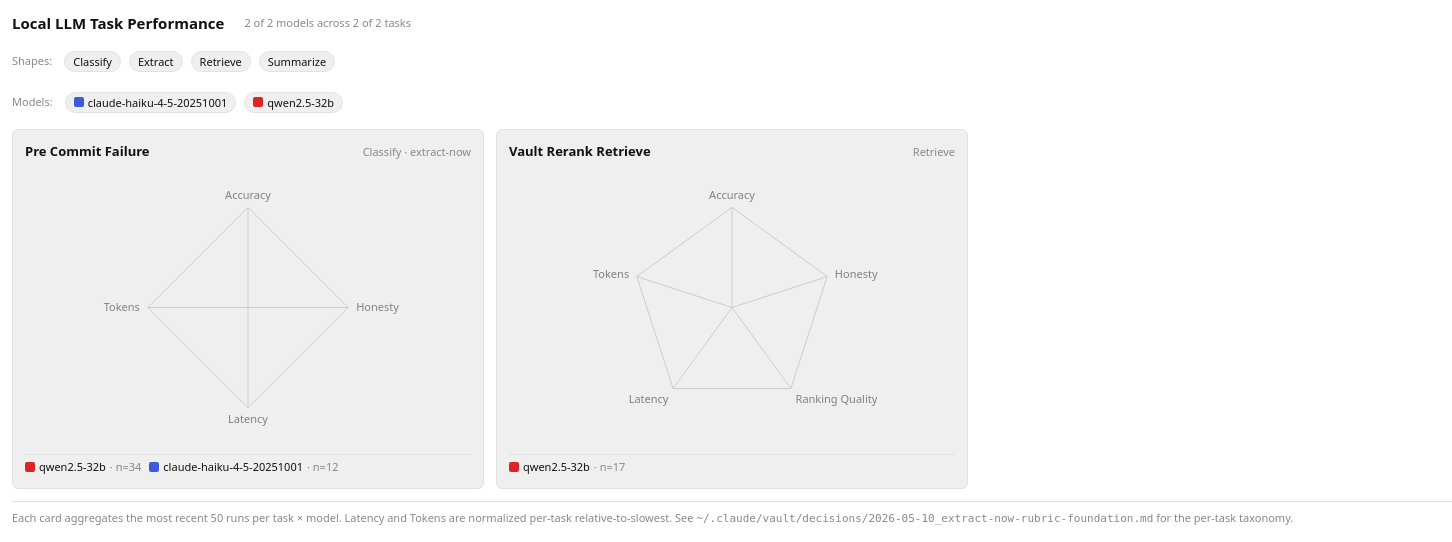
Test: BenchmarksPage — model filter › hiding a model mutes its legend entry per card
Expected: the element with test id "tasks-grid" is shown, left=12, top=128, right=968, bottom=488
Click the button with test id "model-filter-claude-haiku-4-5-20251001".
click(150, 102)  # box left=65, top=92, right=236, bottom=112
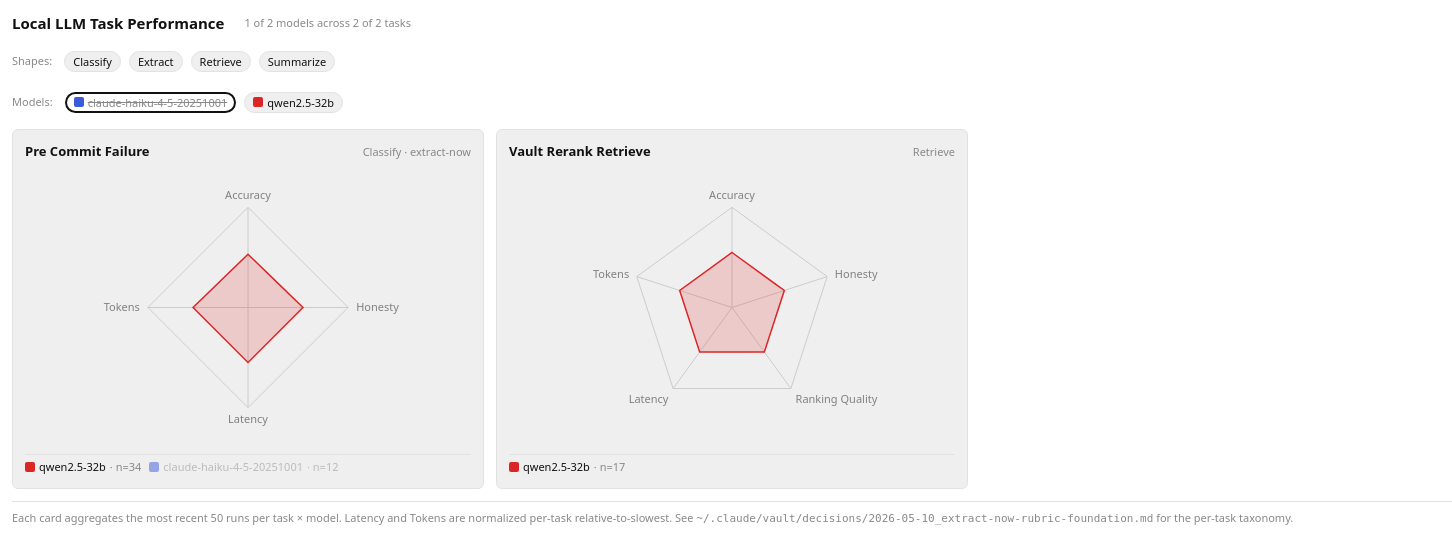
Now the text with test id "benchmarks-summary" shows "1 of 2 models", box left=244, top=15, right=411, bottom=32
